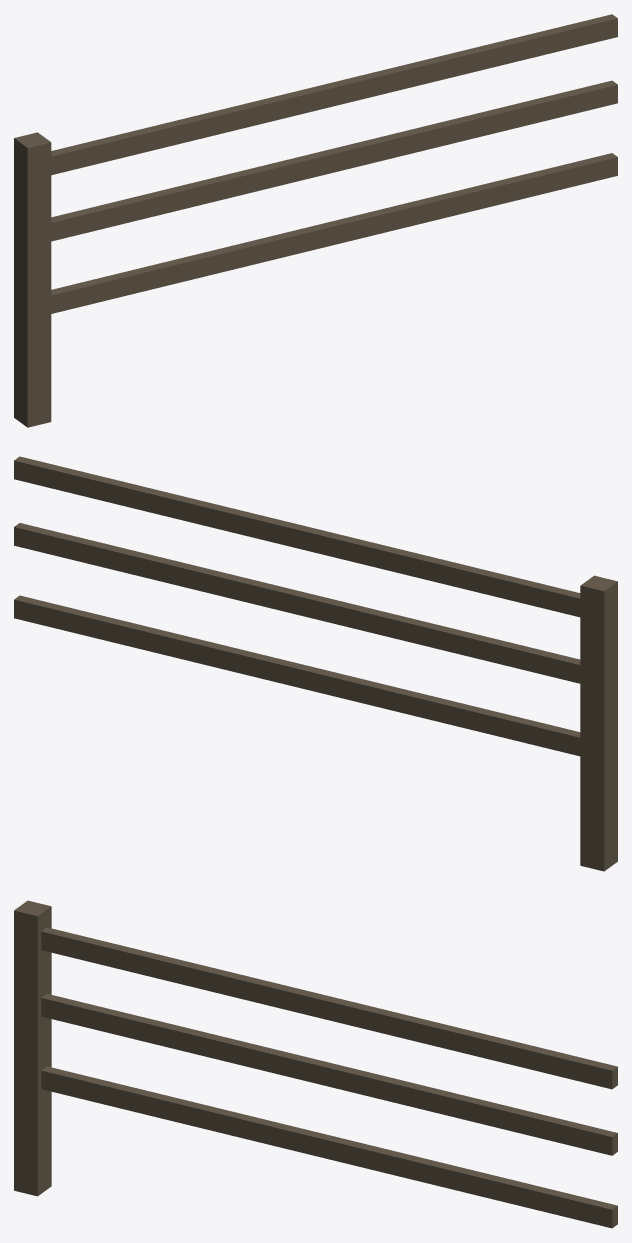
Rendered from fence-w1.fbx.
3 views of the same model, one above another, from view 1: azimuth 30°, elevation 25°; view 2: azimuth 150°, elevation 25°; view 3: azimuth 330°, elevation 25° (orthographic).
Visible parts, largest first — view 1: a1003/0/fence-w1; view 2: a1003/0/fence-w1; view 3: a1003/0/fence-w1.
Boxes of the visible parts, x1,y1,x2,y2 form: a1003/0/fence-w1: (14, 14, 617, 427); a1003/0/fence-w1: (14, 456, 617, 871); a1003/0/fence-w1: (14, 900, 617, 1228).
Bounding box in the file's own units: 3 × 1.35 × 0.12.
